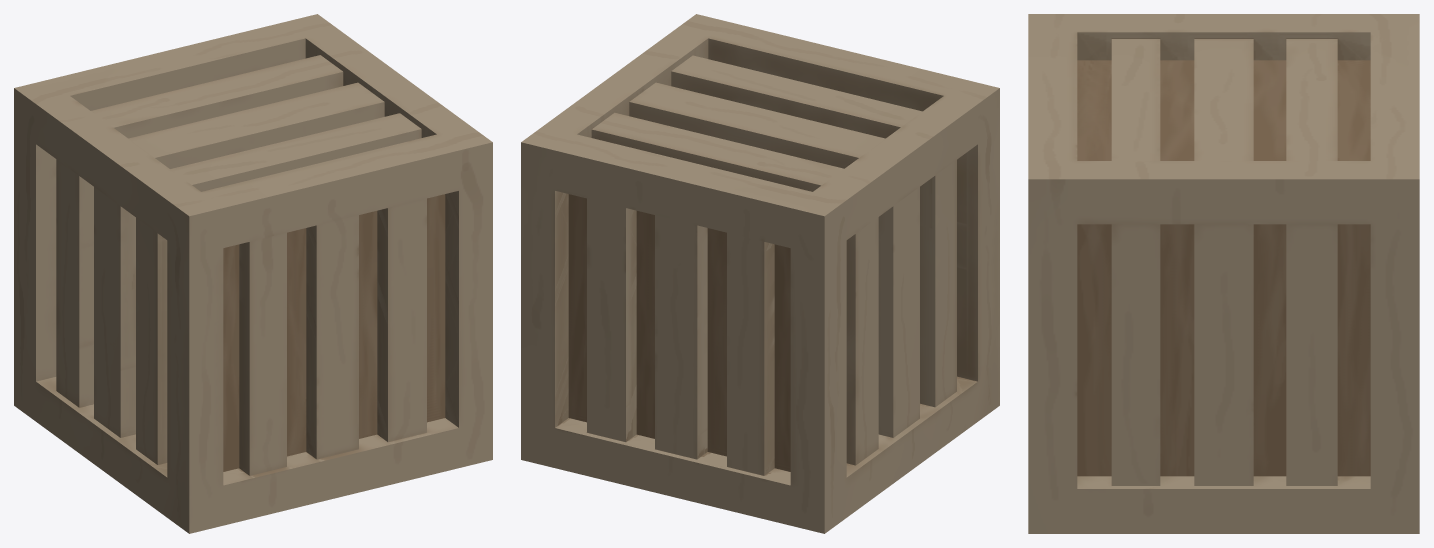
File: chest_2.fbx
3 renders of one model, left to right at view 1: azimuth 30°, elevation 25°; view 2: azimuth 150°, elevation 25°; view 3: azimuth 270°, elevation 25°, orthographic. The views are drawn at different scales.
Visible parts, largest first — view 1: chest_2; view 2: chest_2; view 3: chest_2.
Boxes of the visible parts, box(x1,y1,x2,y2) form: chest_2: box(14, 14, 492, 533); chest_2: box(521, 14, 999, 533); chest_2: box(1028, 14, 1419, 533).
Size of the model in its own units: 306 by 306 by 306.
